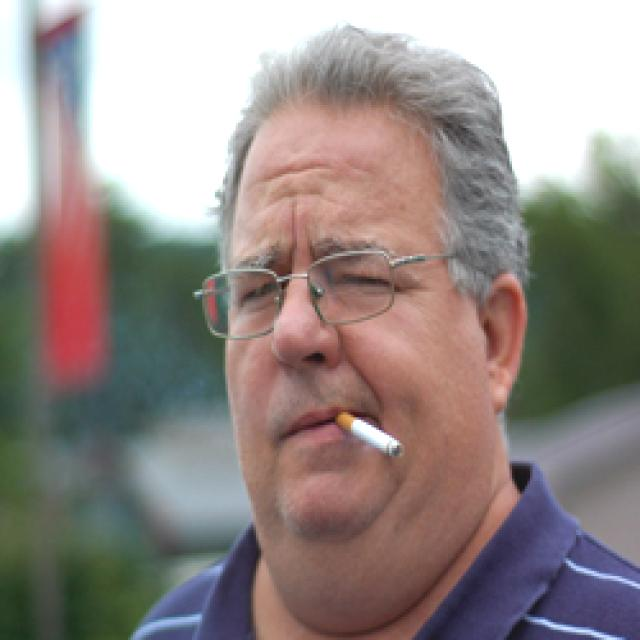Smooking: (328, 403, 411, 464)
